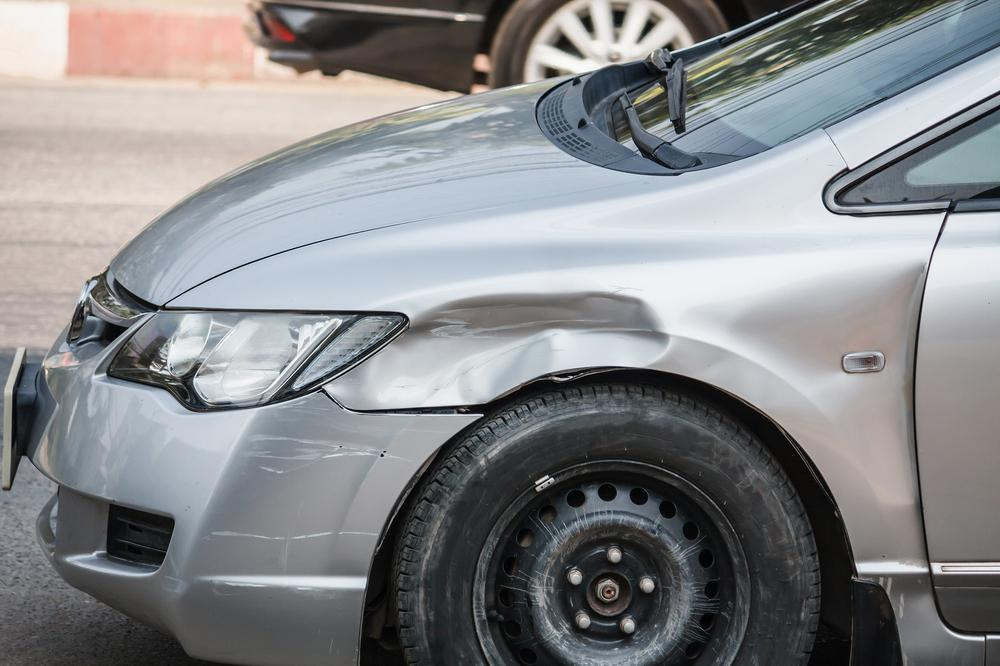dent: (686, 263, 924, 502), (367, 291, 670, 408)
scratch: (232, 399, 418, 503), (199, 528, 384, 549)
